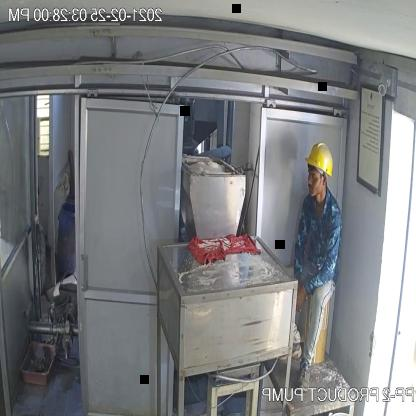helmet: (303, 136, 338, 186)
